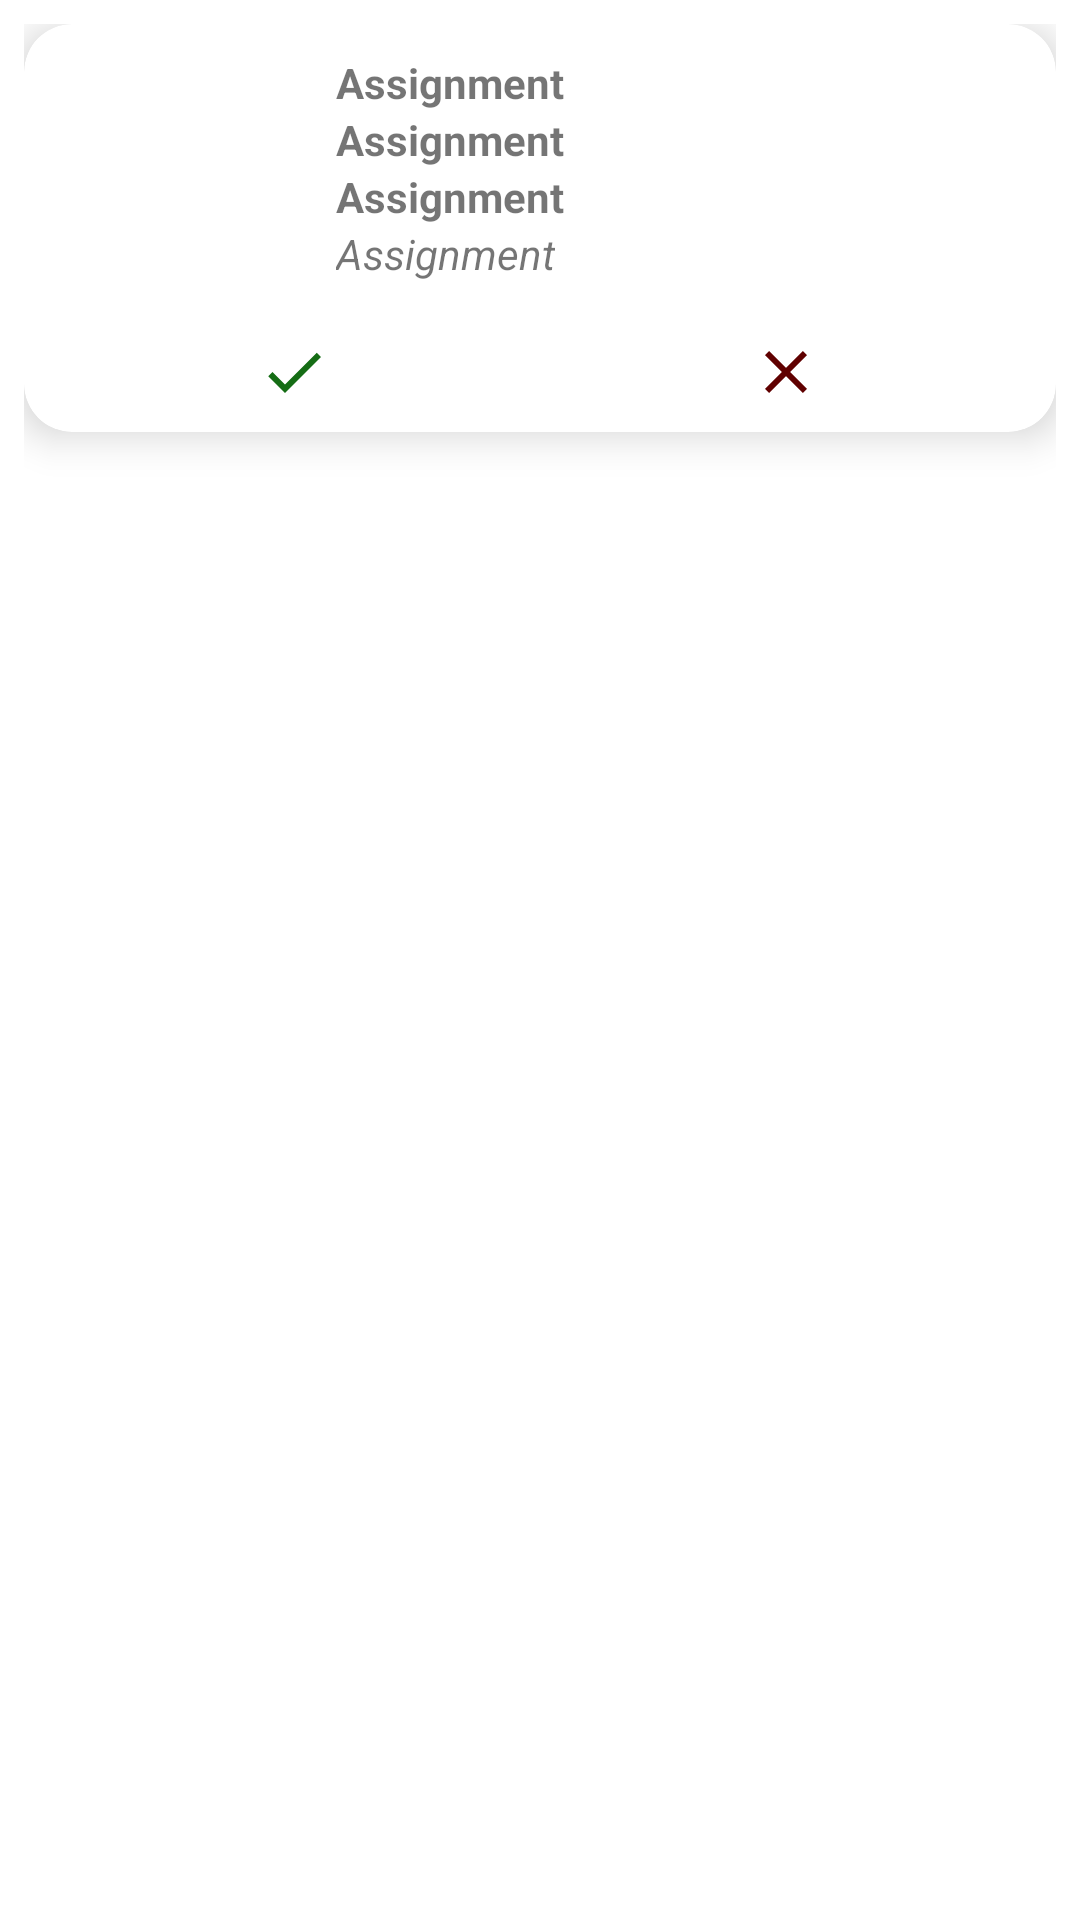

Named icons in this screenshot (1080*1920) and their centers, (x,y):
check: (294,373)
close: (786,372)
